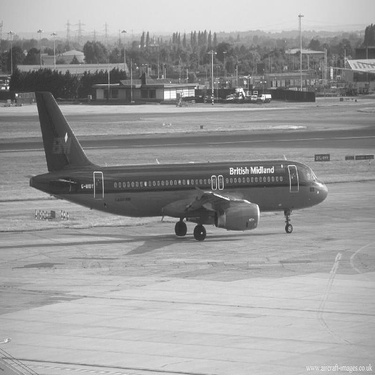airplane: (25, 72, 344, 252)
